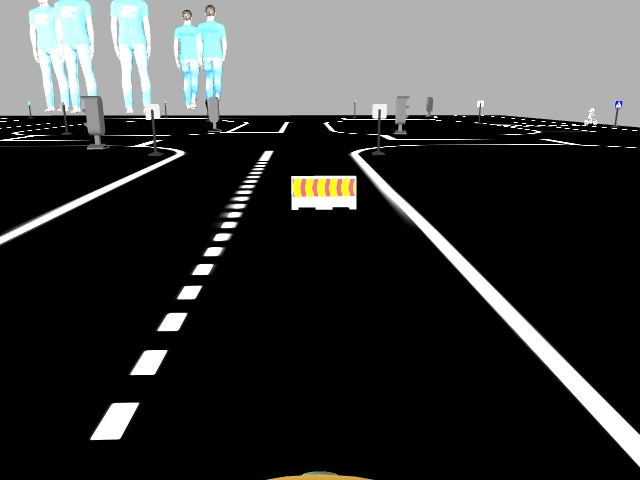ClosedRoadStand: (292, 174, 353, 209)
